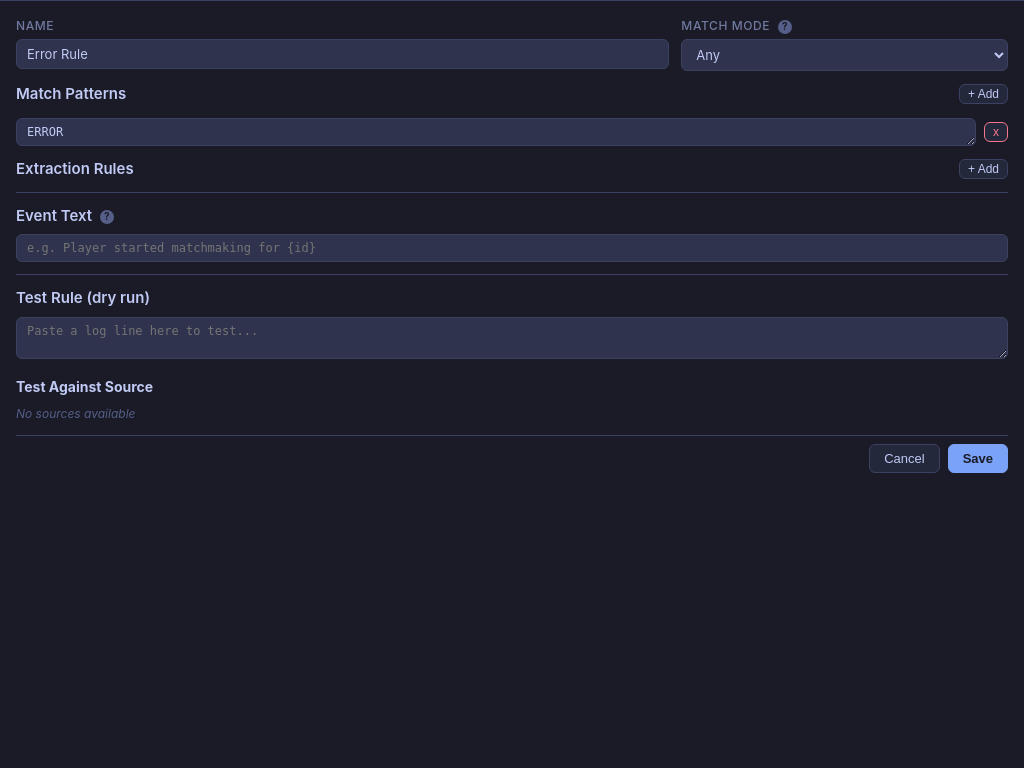
Test case: RuleEditor › adds an extraction rule row
Click the button "+ Add" in the row of "Extraction Rules" at point(984, 169), box x1=959 y1=159 x2=1008 y2=179
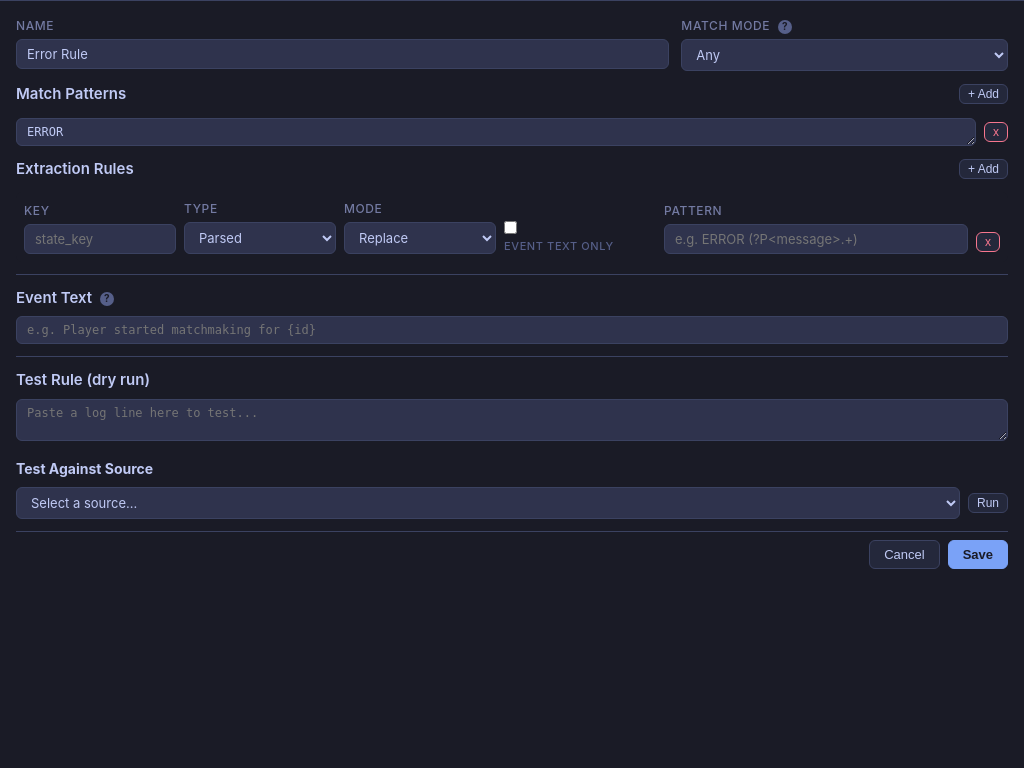
expect the number of fields with placeholder "state_key" is 1: met, box x1=24 y1=224 x2=176 y2=254
